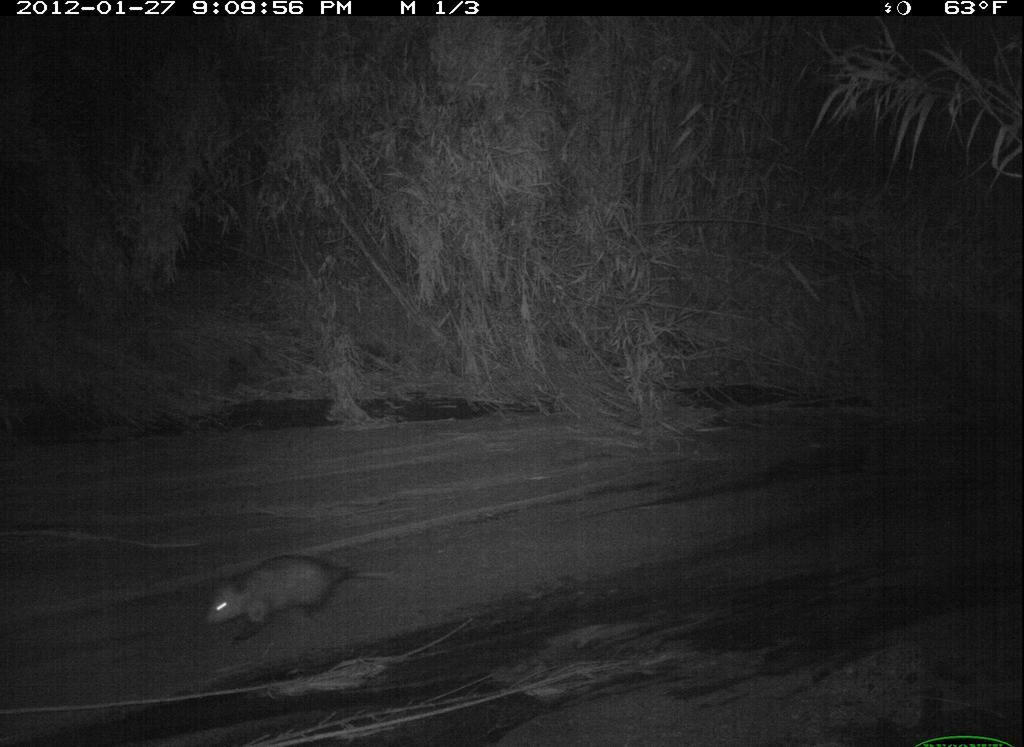opossum: (198, 548, 413, 656)
